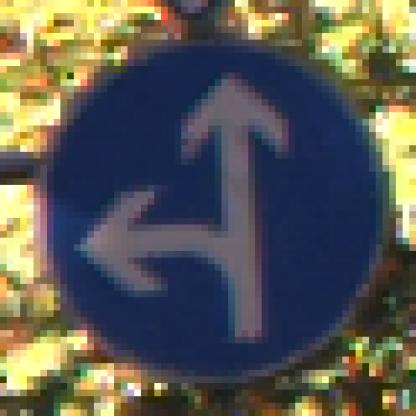Straight or Left: (35, 34, 384, 384)
